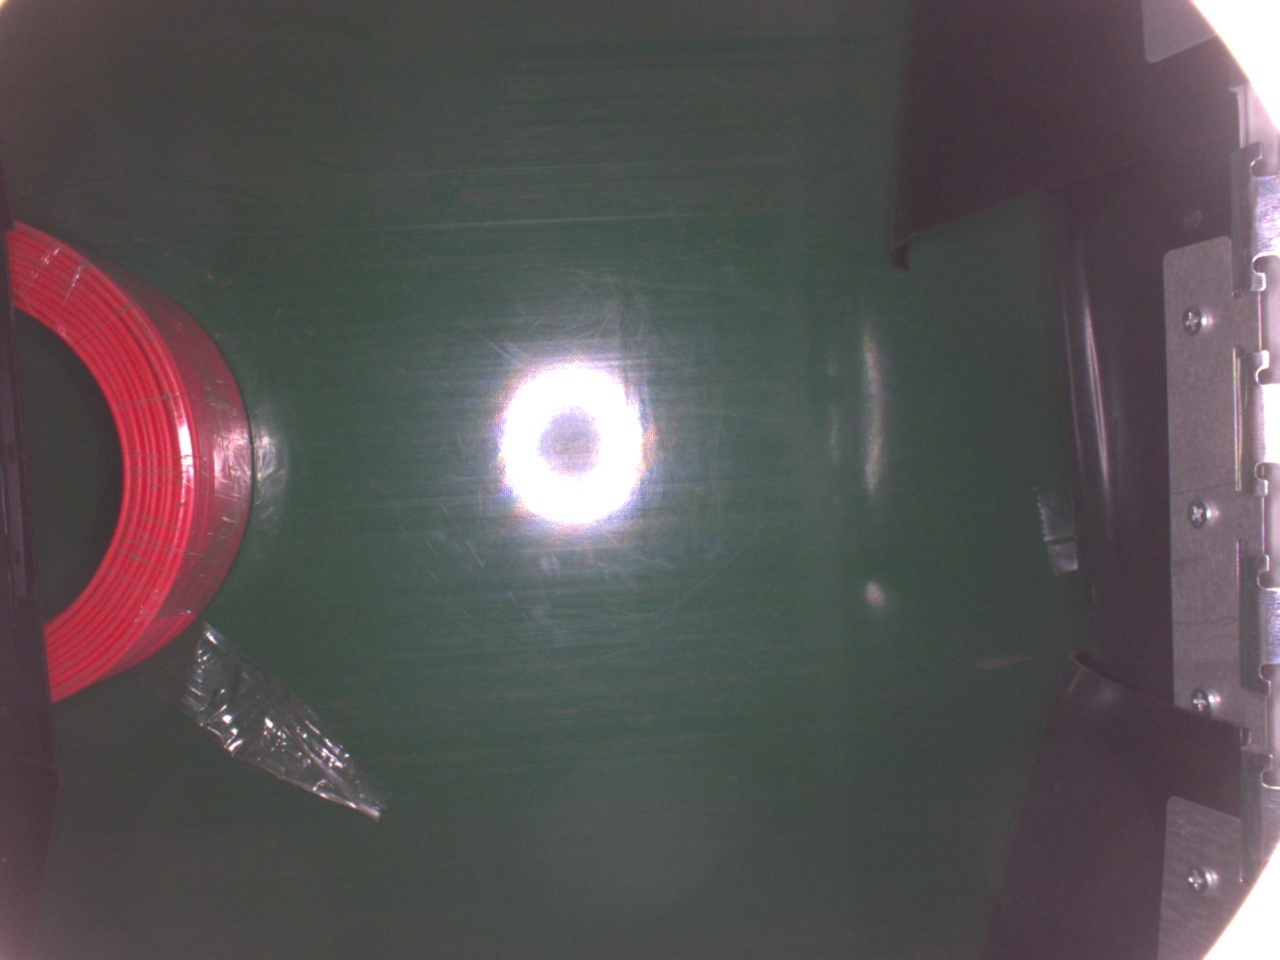red: (2, 210, 254, 700)
